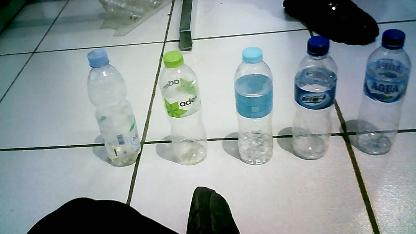Plastic Bottle: (81, 45, 142, 171), (356, 29, 412, 155), (158, 47, 210, 165), (294, 35, 338, 161), (234, 47, 276, 165)
